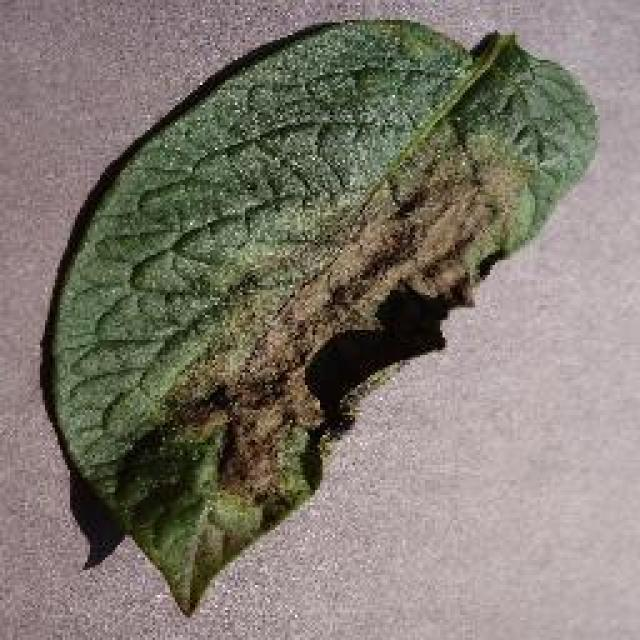Potato___Late_blight: (48, 13, 603, 618)
